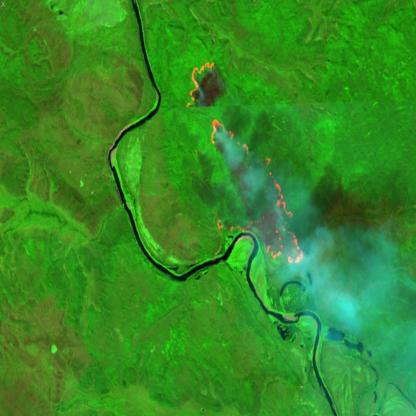fire: (182, 57, 306, 271)
